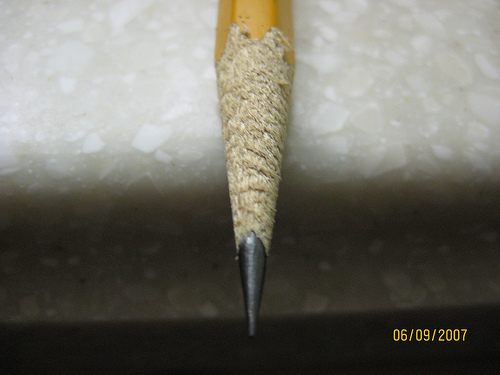pen_tip: (209, 9, 306, 349)
